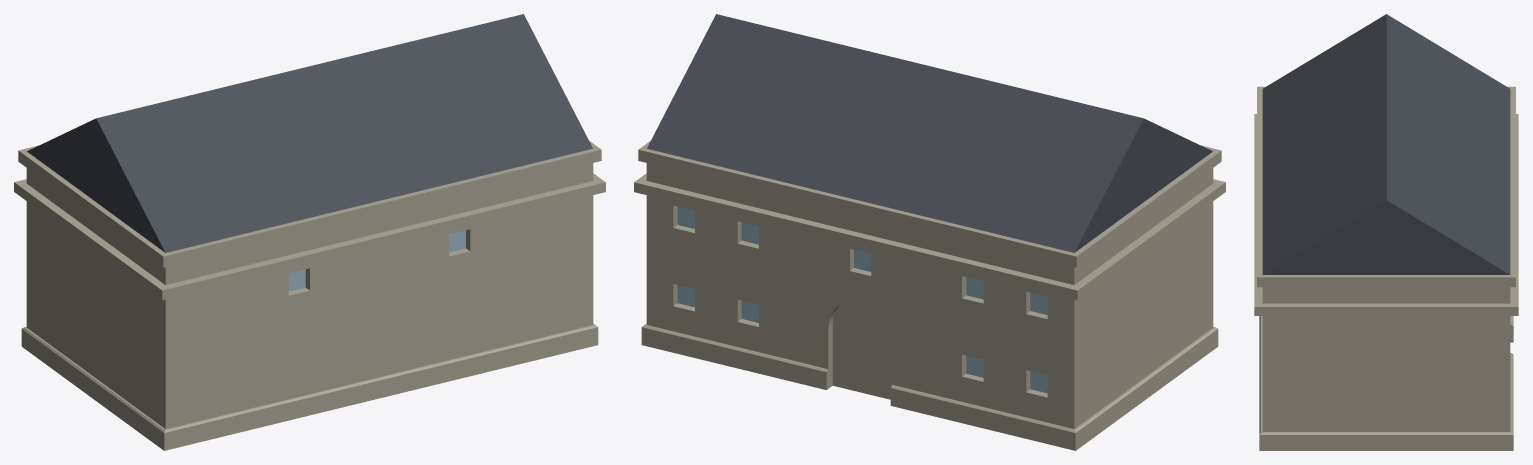
3 renders of one model, left to right at view 1: azimuth 30°, elevation 25°; view 2: azimuth 150°, elevation 25°; view 3: azimuth 270°, elevation 25°, orthographic. The views are drawn at different scales.
Visible parts, largest first — view 1: body_stone, roof_slate, trim_stone; view 2: body_stone, roof_slate, trim_stone; view 3: roof_slate, body_stone, trim_stone.
Boxes of the visible parts, <box> form: body_stone: <box>26,163,593,429</box>; roof_slate: <box>27,14,592,252</box>; trim_stone: <box>14,141,605,450</box>; body_stone: <box>646,163,1213,429</box>; roof_slate: <box>647,14,1212,252</box>; trim_stone: <box>634,141,1225,450</box>; roof_slate: <box>1262,14,1510,274</box>; body_stone: <box>1262,287,1510,431</box>; trim_stone: <box>1254,86,1518,450</box>.
Size of what is drawn, in the model's own units: 16.6 by 10 by 9.6.
